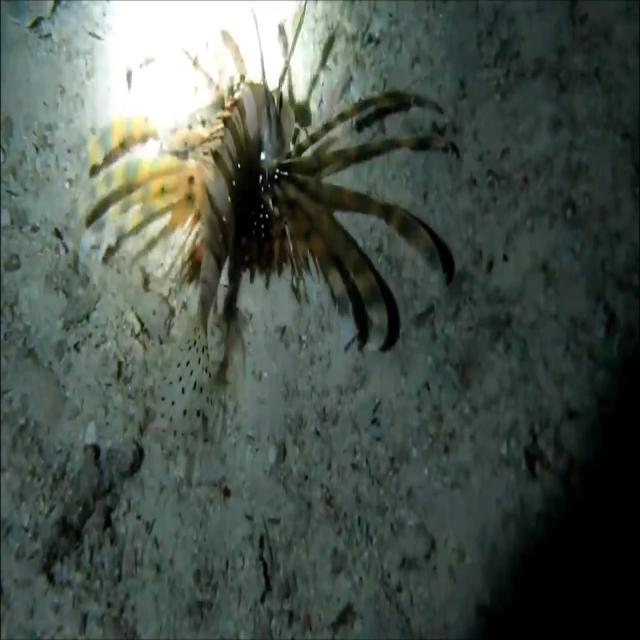Lionfish -Endangered- -Poisonous-: (89, 7, 447, 370)
